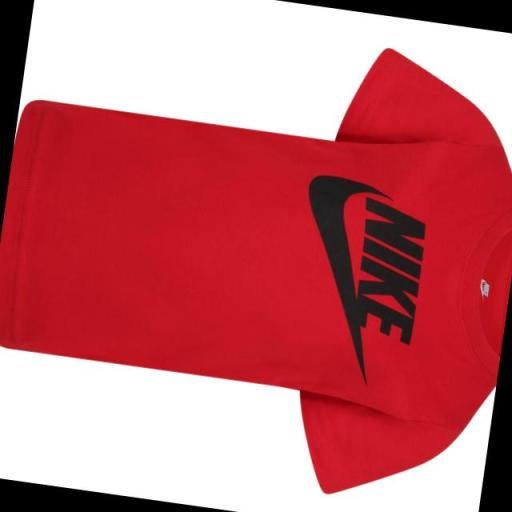Nike: (284, 171, 376, 344), (343, 198, 431, 346)
